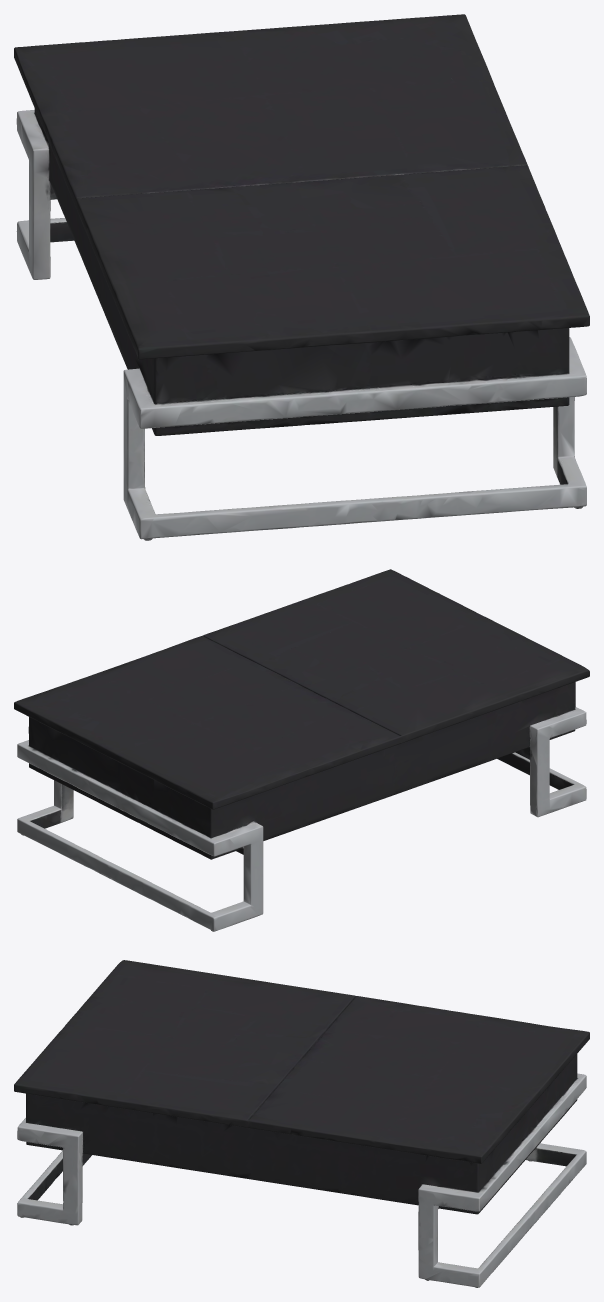
The model's file is homedepot-com-p-acme-furniture-calnan-47-in-black-chrome-lar-d3d235.glb.
3 views of the same model, one above another, from view 1: azimuth 30°, elevation 25°; view 2: azimuth 150°, elevation 25°; view 3: azimuth 270°, elevation 25° (orthographic). The views are drawn at different scales.
Visible parts, largest first — view 1: tripo_node_7ddd51a9-1722-428c-ae2f-8ed5b7390f1a; view 2: tripo_node_7ddd51a9-1722-428c-ae2f-8ed5b7390f1a; view 3: tripo_node_7ddd51a9-1722-428c-ae2f-8ed5b7390f1a.
Part boxes in pixels (x1,y1,x2,y2): tripo_node_7ddd51a9-1722-428c-ae2f-8ed5b7390f1a: (14, 14, 589, 540); tripo_node_7ddd51a9-1722-428c-ae2f-8ed5b7390f1a: (14, 569, 589, 931); tripo_node_7ddd51a9-1722-428c-ae2f-8ed5b7390f1a: (14, 960, 589, 1287).
Bounding box in the file's own units: 0.9356 × 0.2975 × 1.15.
1 material, 1 textured.
